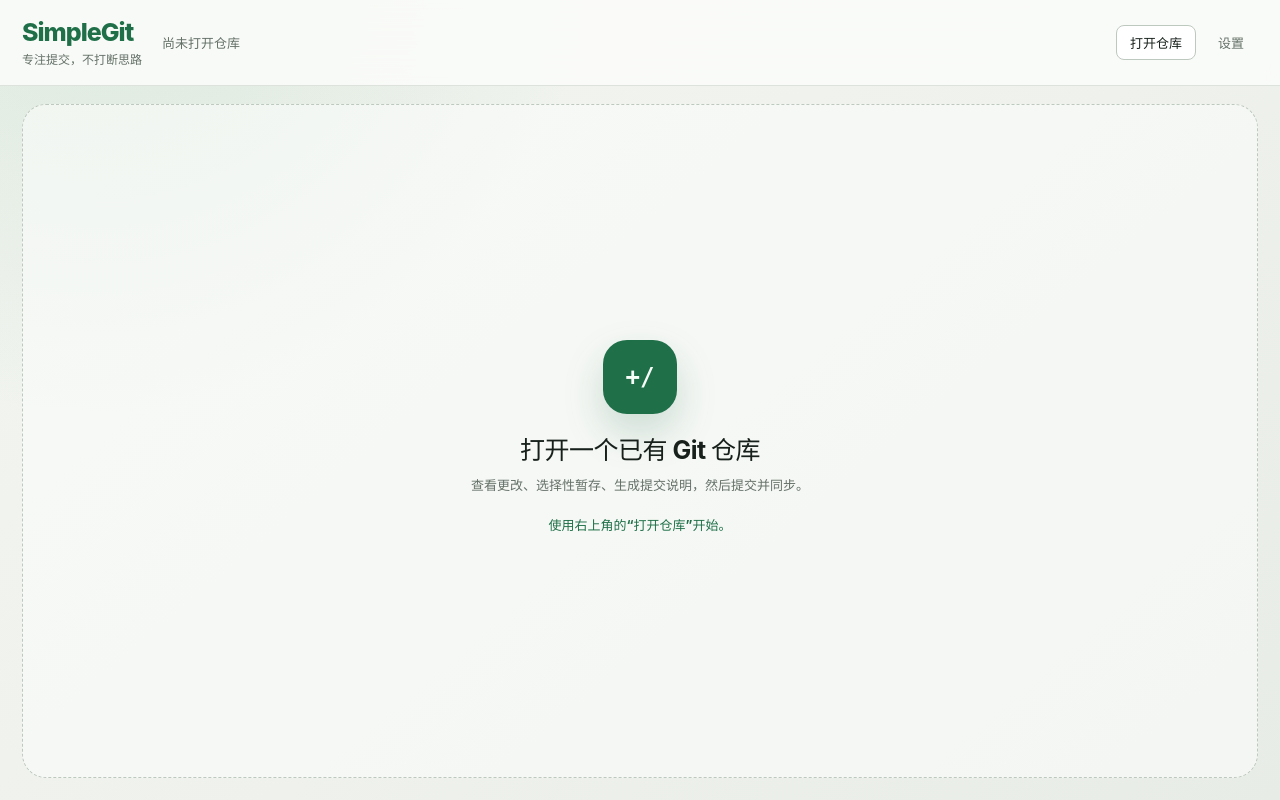
Test: SimpleGit main workspace › disables generation and commit when conflicts exist
This screenshot has width=1280, height=800.
Step 1. Click the button "打开仓库" → (1156, 42), box [1116,25,1196,60]
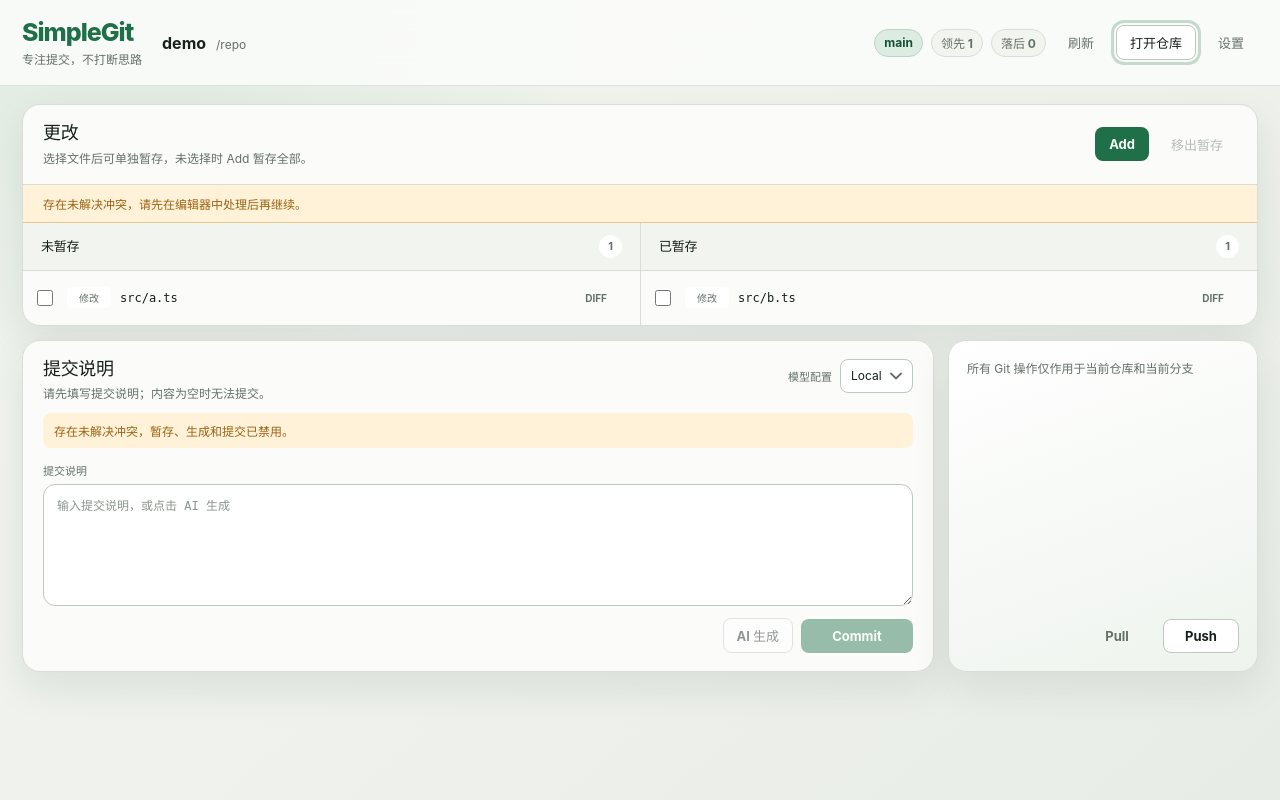
Now the text "demo" is shown, box [162,32,206,52]
Now the button "AI 生成" is disabled, box [722,618,793,653]
Now the button "Commit" is disabled, box [801,619,913,653]
